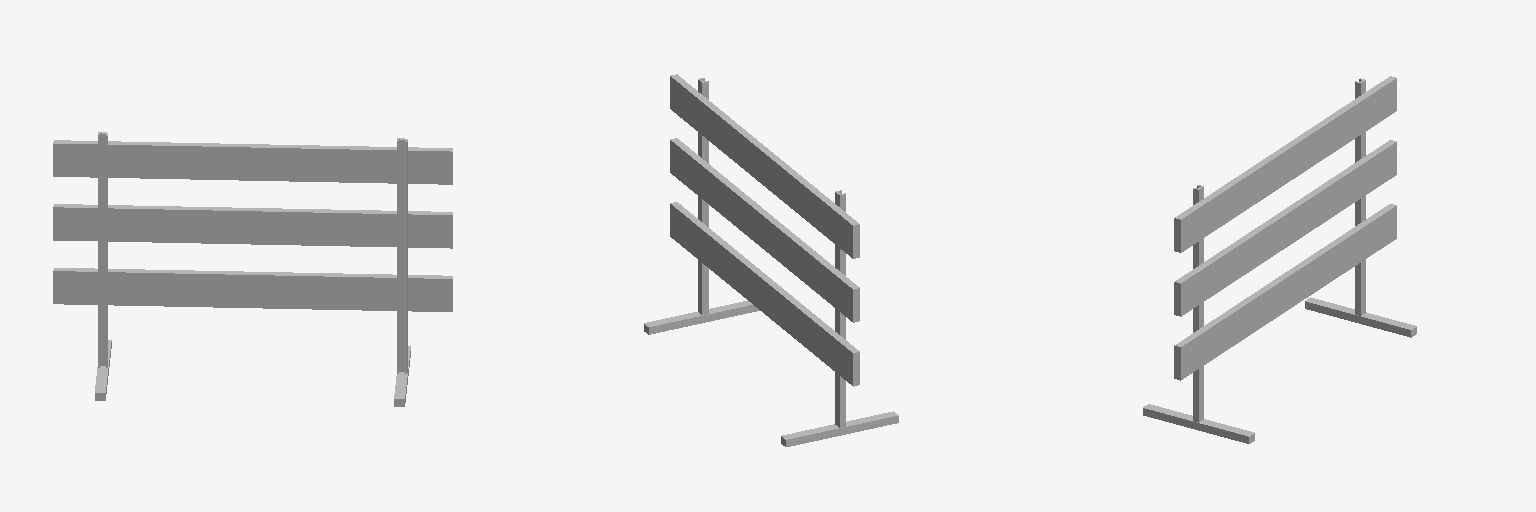
File: SeñalNaranja.obj
3 views of the same model, side by side, from view 1: azimuth 30°, elevation 25°; view 2: azimuth 150°, elevation 25°; view 3: azimuth 270°, elevation 25° (orthographic).
Parts seen in each view (by area): view 1: Mesh; view 2: Mesh; view 3: Mesh.
Part boxes in pixels (x1,y1,x2,y2): Mesh: (53, 132, 452, 406); Mesh: (644, 74, 898, 446); Mesh: (1143, 76, 1416, 443).
Size of the model in its own units: 3.48 by 2.71 by 2.81.